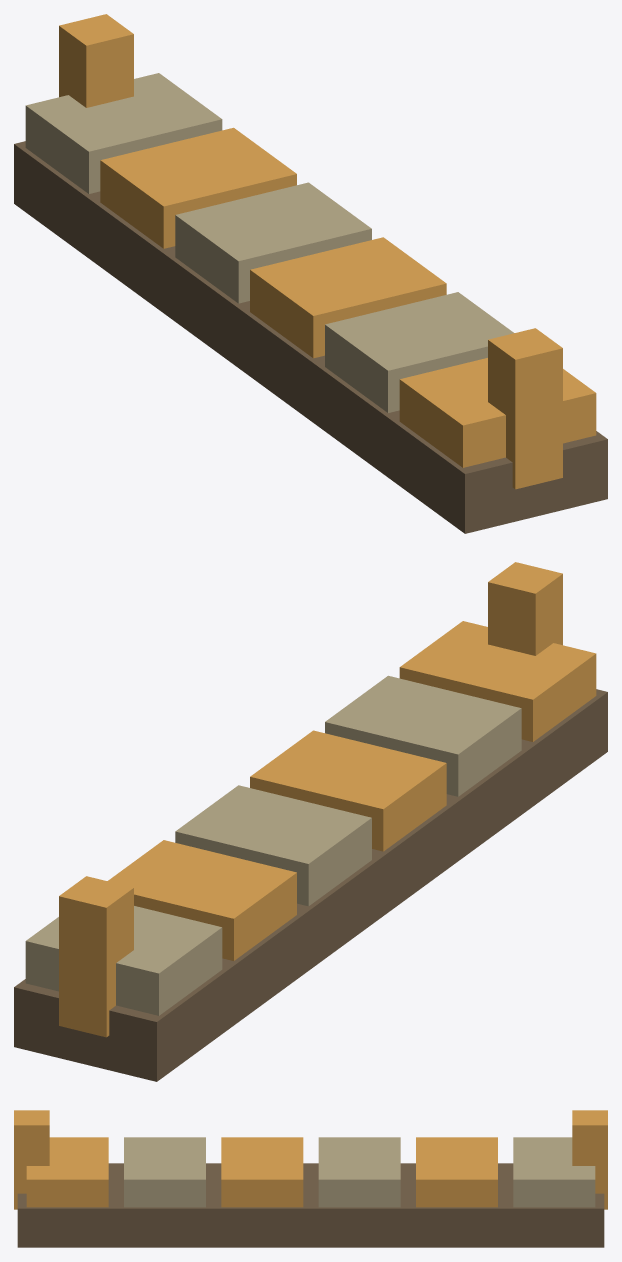
File: road.glb
3 renders of one model, top to bottom at view 1: azimuth 30°, elevation 25°; view 2: azimuth 150°, elevation 25°; view 3: azimuth 270°, elevation 25°, orthographic. The views are drawn at different scales.
Visible parts, largest first — view 1: road; view 2: road; view 3: road.
Part boxes in pixels (box(x1,y1,x2,y2)): road: box(14, 14, 607, 533); road: box(14, 562, 607, 1081); road: box(14, 1110, 607, 1247).
Size of the model in its own units: 0.15 by 0.165 by 0.83.
